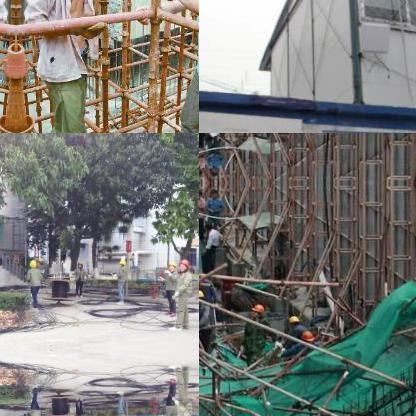Helmet: (297, 326, 313, 342), (247, 301, 265, 315), (176, 257, 190, 273), (288, 311, 300, 327), (167, 259, 176, 273), (115, 256, 125, 268), (26, 256, 36, 268), (199, 286, 203, 303)
